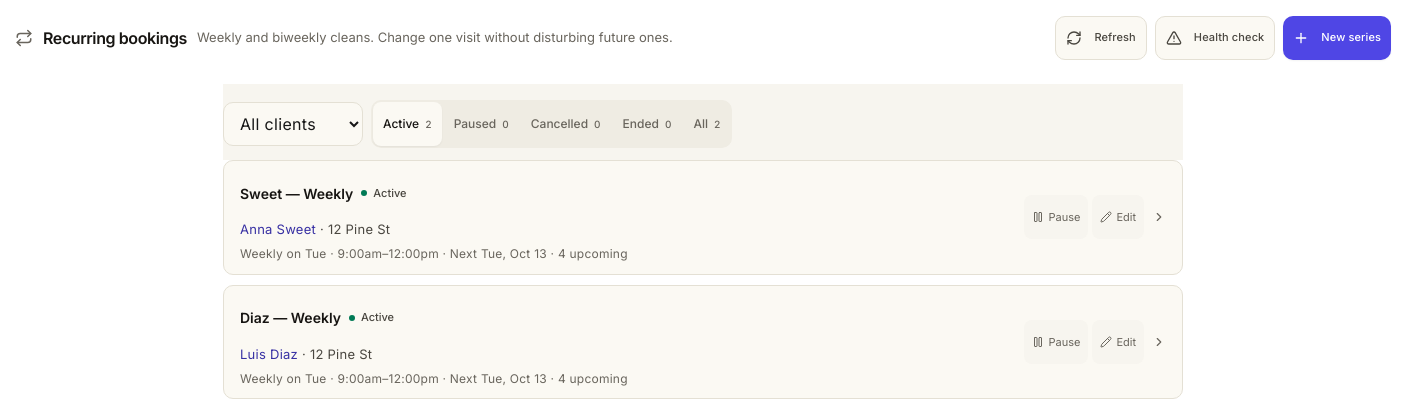
it: the filter chips carry the counts, and they match the rows › counts within the picked client, not the whole book
Check: the button "Active2" is shown, box [373, 102, 442, 146]
Select "Anna Sweet" in the dropdown named "Filter by client" at (293, 124), box [223, 102, 363, 146]
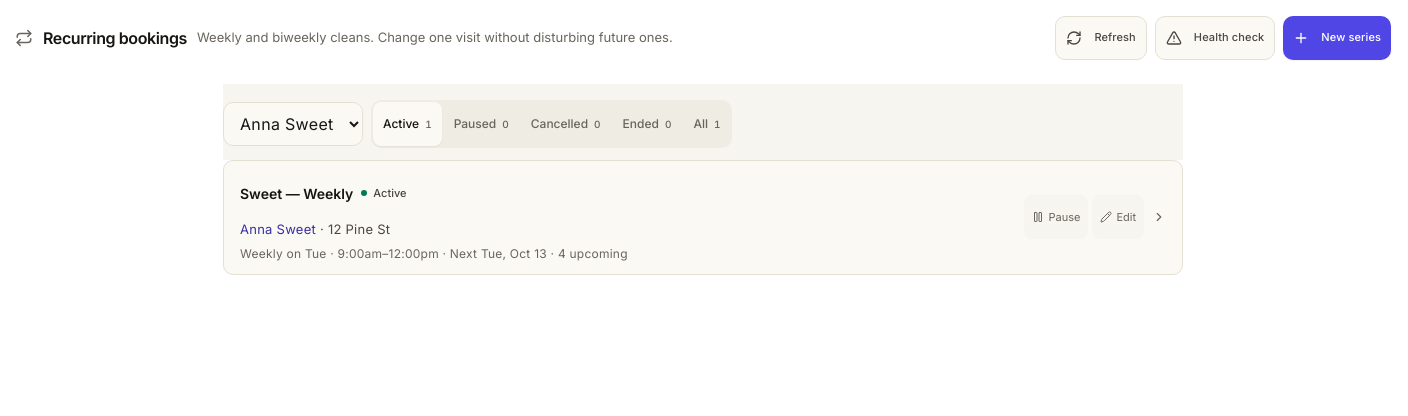
Check: the number of buttons "Sweet — Weekly" is 1, box [240, 171, 353, 215]
Check: the button "Active1" is shown, box [373, 102, 442, 146]
Check: the button "Diaz — Weekly" is gone
